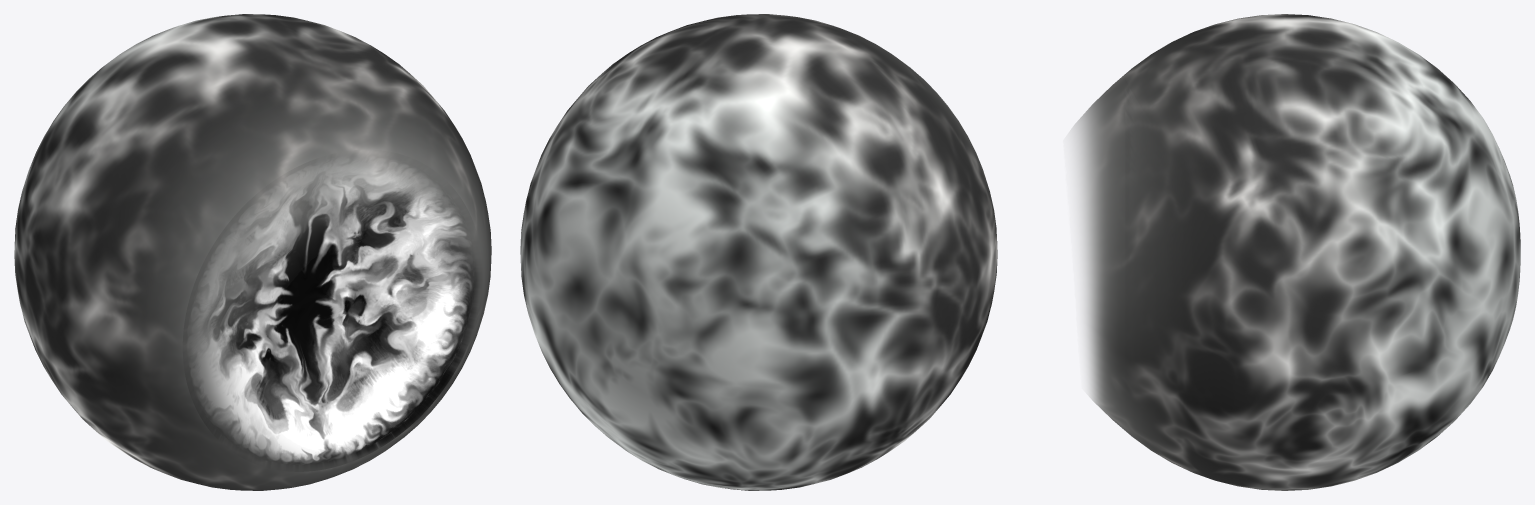
The model's file is fog_eye.glb.
3 views of the same model, side by side, from view 1: azimuth 30°, elevation 25°; view 2: azimuth 150°, elevation 25°; view 3: azimuth 270°, elevation 25° (orthographic).
Visible parts, largest first — view 1: eye-graveyard-fog_2, irys-graveyard-fog_3; view 2: eye-graveyard-fog_2; view 3: eye-graveyard-fog_2.
Part boxes in pixels (x1,y1,x2,y2): eye-graveyard-fog_2: (14,14,491,490); irys-graveyard-fog_3: (193,159,481,469); eye-graveyard-fog_2: (520,14,997,490); eye-graveyard-fog_2: (1070,14,1520,490).
Size of the model in its own units: 1.97 by 1.97 by 2.05.
2 materials, 2 textured.
